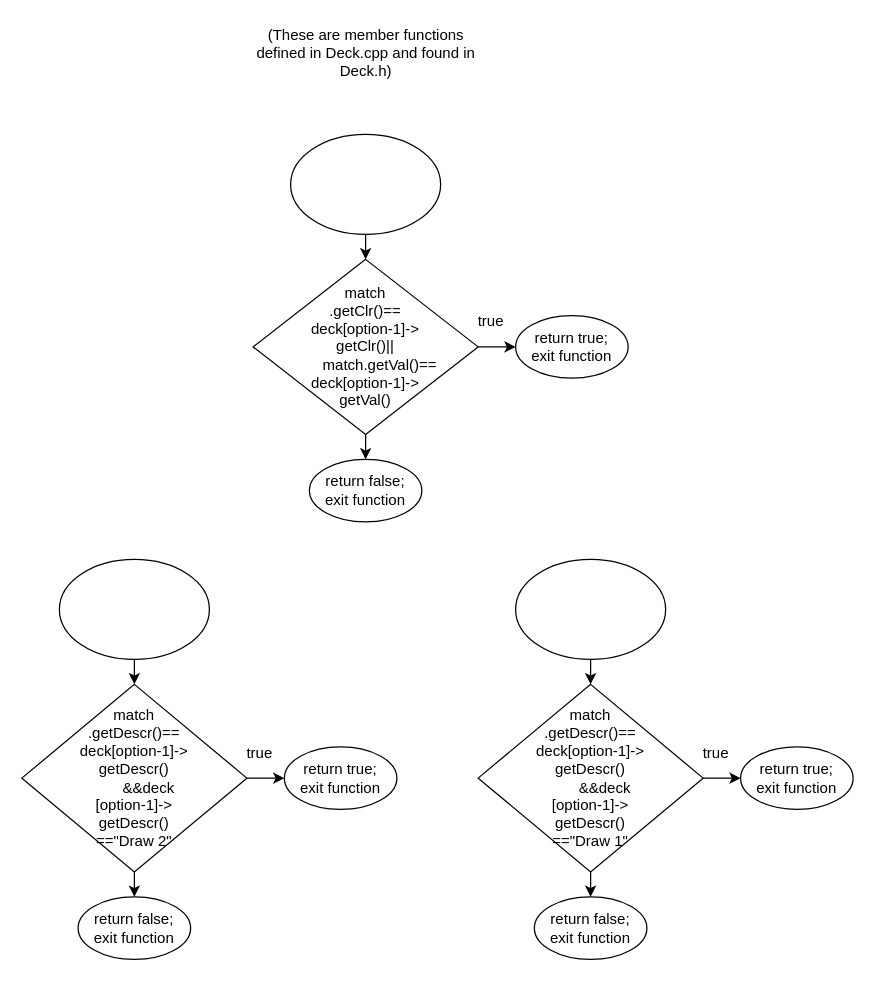
This 875x981 diagram has some shape labels left out. The shapes that lost their labels are listed below. From the top down, each one's centre as x and y in pixels, then its label:
At point 365,183: "bool is Match(UnoCard match, int option)".
At point 133,608: "bool is Drw2(UnoCard match, int option)".
At point 590,608: "bool is Drw1(UnoCard match, int option)".
